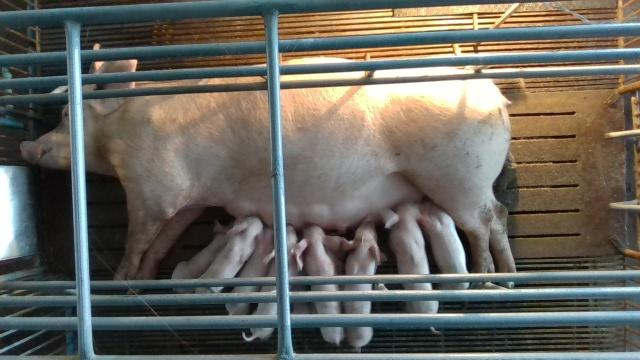piglet: (241, 225, 301, 343), (389, 202, 441, 336), (291, 224, 343, 347), (341, 214, 387, 348), (194, 215, 263, 292), (172, 220, 233, 293), (420, 201, 470, 290), (224, 227, 273, 315)
sow-sleep-lactate: (20, 43, 517, 291)
